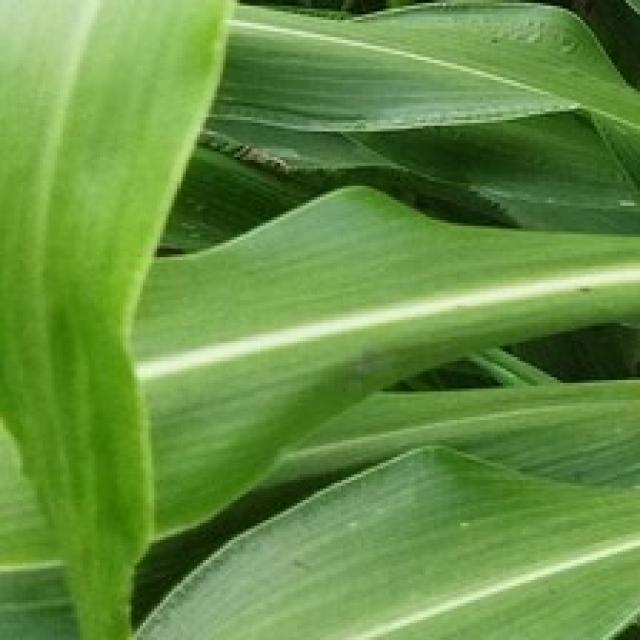Corn: (0, 0, 637, 637), (126, 180, 637, 546), (0, 0, 243, 637), (0, 440, 637, 637), (160, 0, 637, 249)
